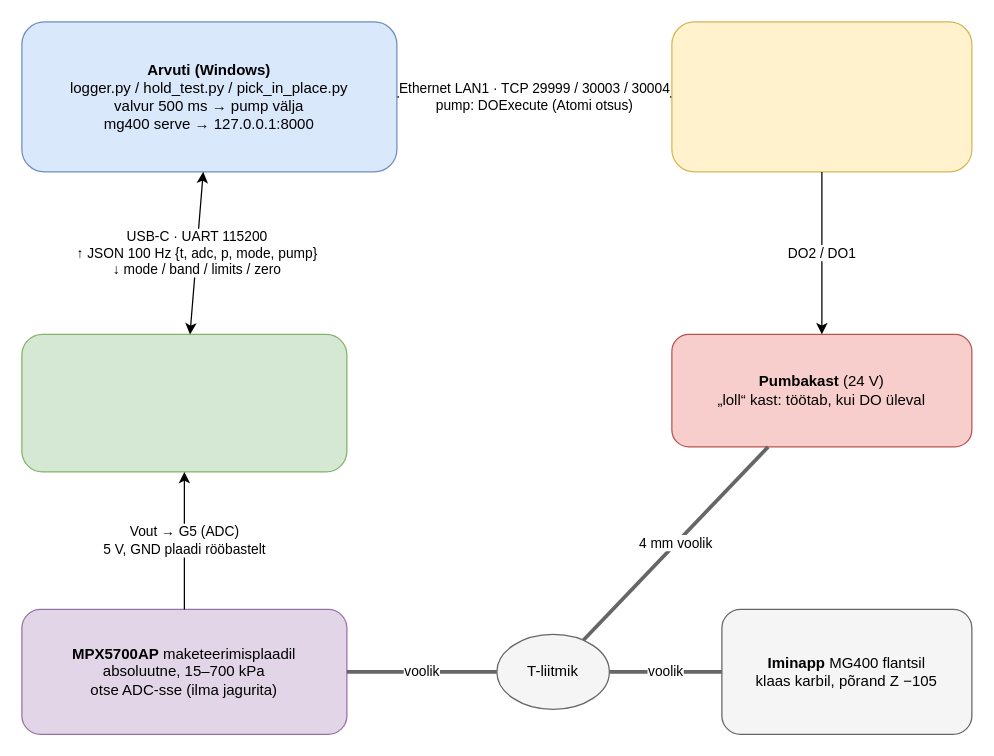
This 994x756 diagram has some shape labels left out. Each missing label, with the box of its shape:
AtomS3R otsustab: riba off −60 / on −40 kPa ekraan: p, režiim, pump null NVS-is: (21, 333, 347, 472)
MG400 192.168.1.6 (LAN1) DO2 = imemine, DO1 = puhumine: (671, 21, 972, 172)
